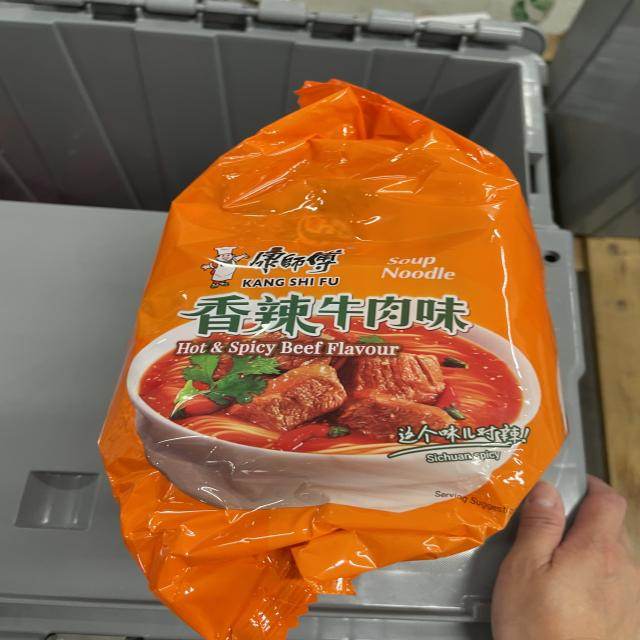object_name: (150, 137, 544, 502)
